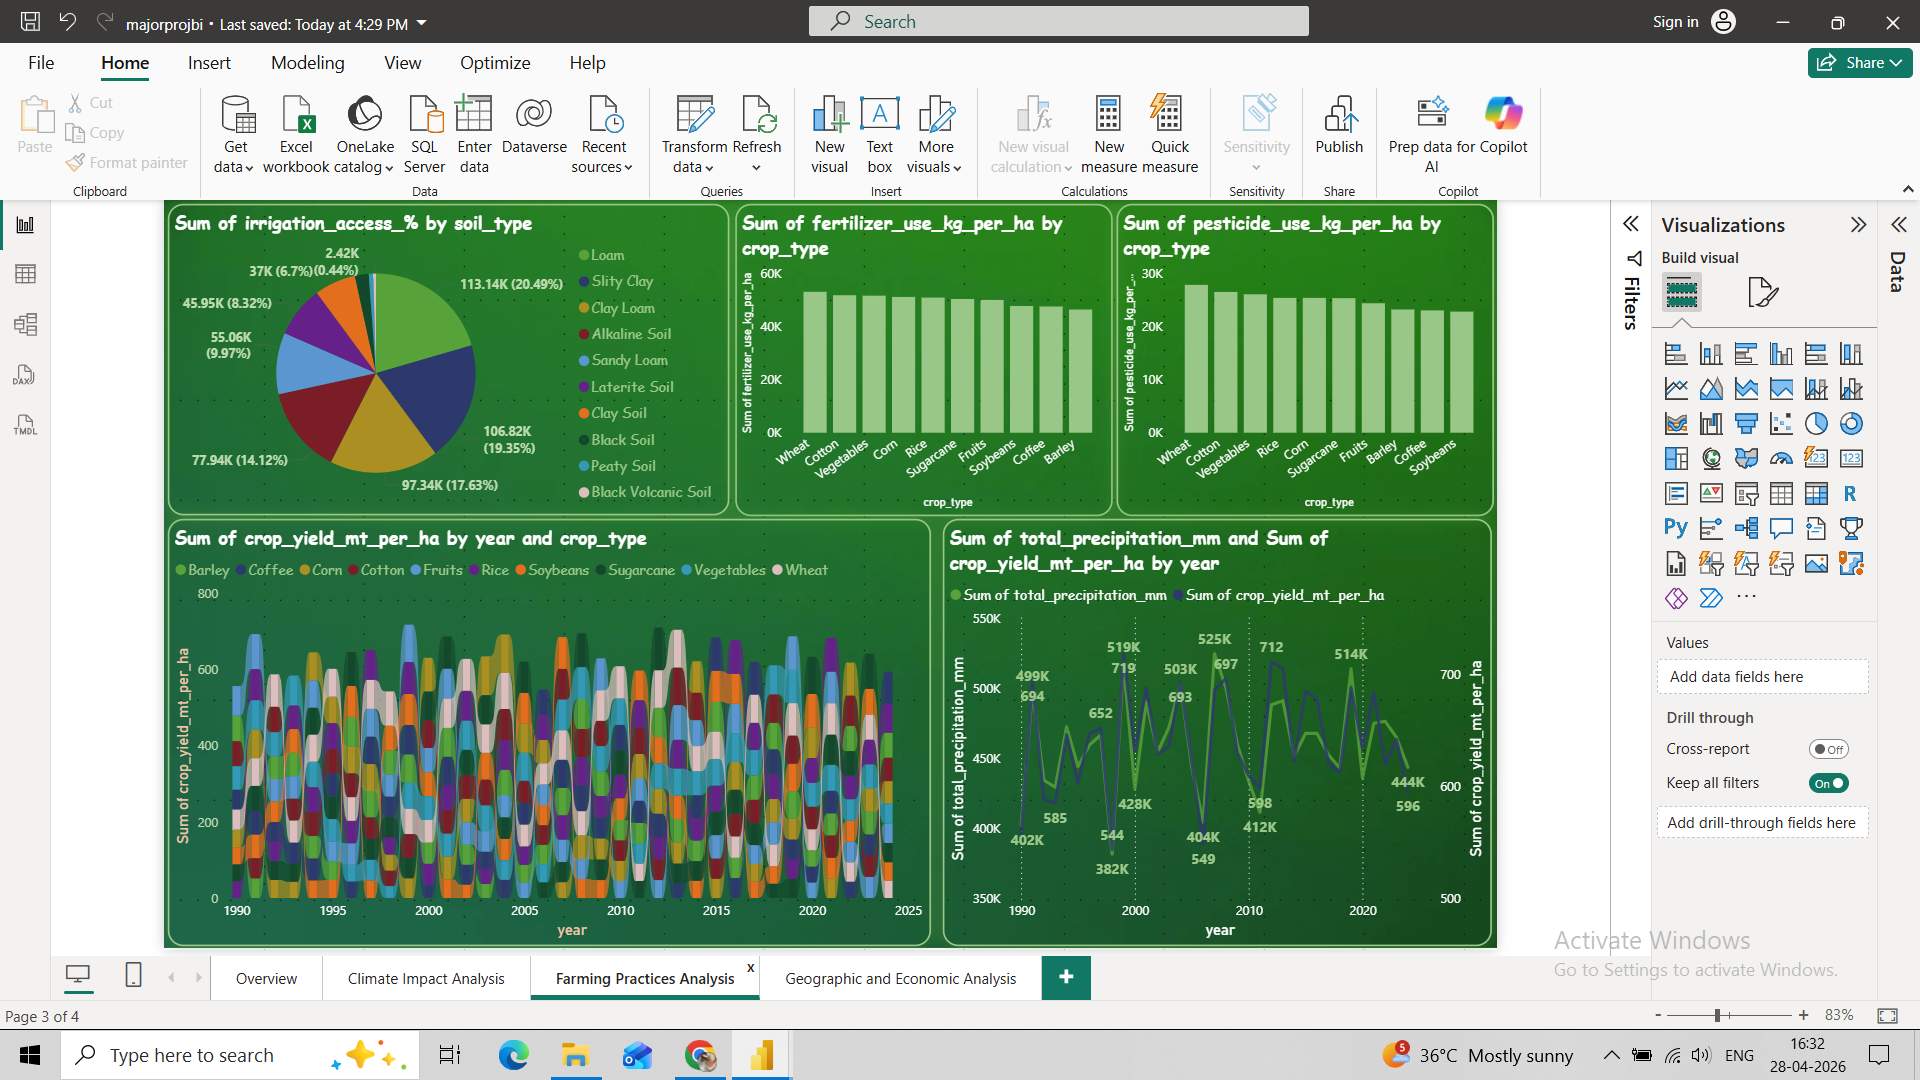

Layout of this report page (visuals, bound fields, positions):
{"tool":"powerbi","page":{"name":"Farming Practices Analysis","canvas":[1280,720],"ordinal":2},"visuals":[{"type":"clusteredColumnChart","fields":{"Category":["filtered_agrofile.crop_type"],"Y":["Sum(filtered_agrofile.fertilizer_use_kg_per_ha)"]},"box":[548,3,362,300],"z":0},{"type":"clusteredColumnChart","fields":{"Category":["filtered_agrofile.crop_type"],"Y":["Sum(filtered_agrofile.pesticide_use_kg_per_ha)"]},"box":[914,3,362,300],"z":1000},{"type":"lineChart","fields":{"Category":["filtered_agrofile.year"],"Y":["Sum(filtered_agrofile.total_precipitation_mm)"],"Y2":["Sum(filtered_agrofile.crop_yield_mt_per_ha)"]},"box":[748,306,526.9,410.3],"z":2000},{"type":"ribbonChart","fields":{"Category":["filtered_agrofile.year"],"Series":["filtered_agrofile.crop_type"],"Y":["Sum(filtered_agrofile.crop_yield_mt_per_ha)"]},"box":[4,306,732.8,410],"z":3000},{"type":"pieChart","fields":{"Y":["Sum(filtered_agrofile.irrigation_access_%)"],"Category":["filtered_agrofile.soil_type"]},"box":[4,3,539,299],"z":4000}]}

Visuals, with their boxes on the page's 1280x720 design canvas (x1, y1, x2, y2). These are canvas units, not pixel positions in the 1920x1080 screenshot, which may show the page scaled, cropped or inside an application window:
clusteredColumnChart - filtered_agrofile.crop_type x Sum(filtered_agrofile.fertilizer_use_kg_per_ha): {"left": 548, "top": 3, "right": 910, "bottom": 303}
clusteredColumnChart - filtered_agrofile.crop_type x Sum(filtered_agrofile.pesticide_use_kg_per_ha): {"left": 914, "top": 3, "right": 1276, "bottom": 303}
lineChart - filtered_agrofile.year x Sum(filtered_agrofile.total_precipitation_mm): {"left": 748, "top": 306, "right": 1275, "bottom": 716}
ribbonChart - filtered_agrofile.year x filtered_agrofile.crop_type: {"left": 4, "top": 306, "right": 737, "bottom": 716}
pieChart - Sum(filtered_agrofile.irrigation_access_%) x filtered_agrofile.soil_type: {"left": 4, "top": 3, "right": 543, "bottom": 302}
